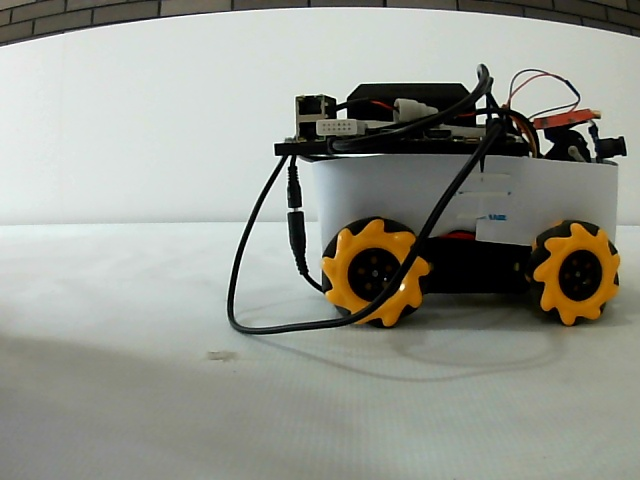car: (275, 80, 625, 331)
paper: (314, 160, 614, 224)
